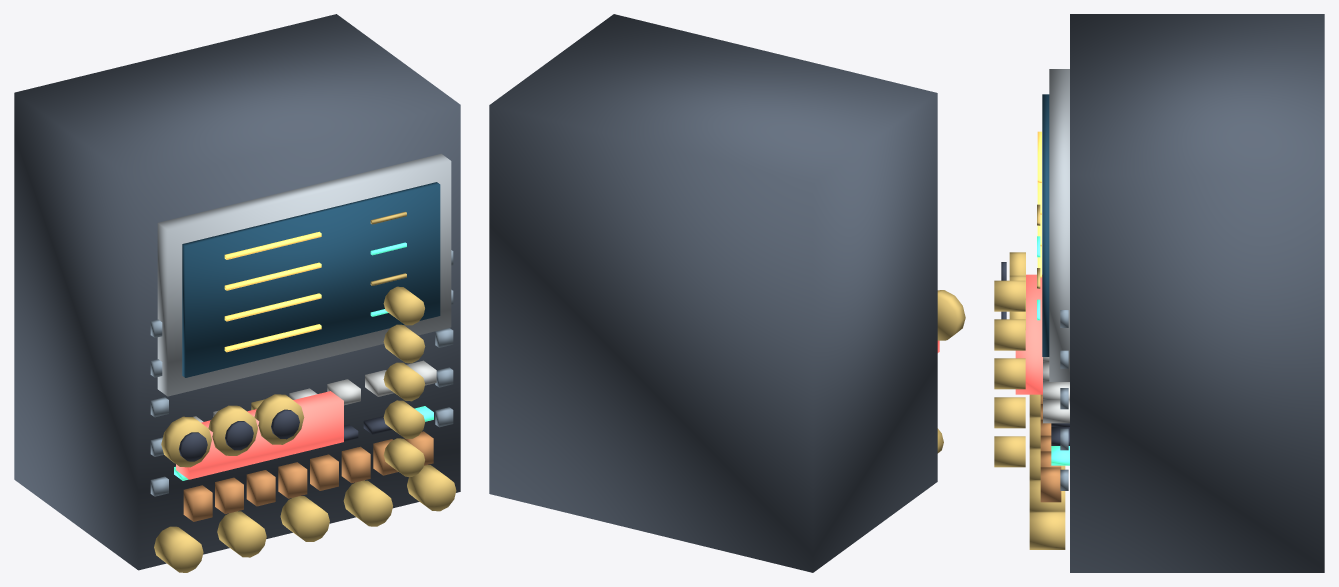
Rendered from 77_L86_W129CriticalFeedbackPatchStation.glb.
3 views of the same model, side by side, from view 1: azimuth 30°, elevation 25°; view 2: azimuth 150°, elevation 25°; view 3: azimuth 270°, elevation 25° (orthographic). The views are drawn at different scales.
Visible parts, largest first — view 1: L86_W129CriticalFeedbackPatch_Part_0000, L86_W129CriticalFeedbackPatch_Part_0002, L86_W129CriticalFeedbackPatch_Part_0001, L86_W129CriticalFeedbackPatch_Part_0004, L86_W129CriticalFeedbackPatch_Part_0009, L86_W129CriticalFeedbackPatch_Part_0010, L86_W129CriticalFeedbackPatch_Part_0003, L86_W129CriticalFeedbackPatch_Part_0008, L86_W129CriticalFeedbackPatch_Part_0006, L86_W129CriticalFeedbackPatch_Part_0011, L86_W129CriticalFeedbackPatch_Part_0013, L86_W129CriticalFeedbackPatch_Part_0015 (+5 smaller); view 2: L86_W129CriticalFeedbackPatch_Part_0000, L86_W129CriticalFeedbackPatch_Part_0011; view 3: L86_W129CriticalFeedbackPatch_Part_0000, L86_W129CriticalFeedbackPatch_Part_0004, L86_W129CriticalFeedbackPatch_Part_0001, L86_W129CriticalFeedbackPatch_Part_0010, L86_W129CriticalFeedbackPatch_Part_0002, L86_W129CriticalFeedbackPatch_Part_0009, L86_W129CriticalFeedbackPatch_Part_0006, L86_W129CriticalFeedbackPatch_Part_0008, L86_W129CriticalFeedbackPatch_Part_0003, L86_W129CriticalFeedbackPatch_Part_0005.
Boxes of the visible parts, x1=… form: L86_W129CriticalFeedbackPatch_Part_0000: x1=14, y1=14, x2=460, y2=570; L86_W129CriticalFeedbackPatch_Part_0002: x1=182, y1=182, x2=440, y2=377; L86_W129CriticalFeedbackPatch_Part_0001: x1=157, y1=153, x2=451, y2=396; L86_W129CriticalFeedbackPatch_Part_0004: x1=154, y1=211, x2=456, y2=572; L86_W129CriticalFeedbackPatch_Part_0009: x1=183, y1=431, x2=433, y2=521; L86_W129CriticalFeedbackPatch_Part_0010: x1=176, y1=391, x2=343, y2=479; L86_W129CriticalFeedbackPatch_Part_0003: x1=224, y1=231, x2=321, y2=352; L86_W129CriticalFeedbackPatch_Part_0008: x1=150, y1=250, x2=453, y2=496; L86_W129CriticalFeedbackPatch_Part_0006: x1=193, y1=360, x2=436, y2=422; L86_W129CriticalFeedbackPatch_Part_0011: x1=161, y1=416, x2=211, y2=467; L86_W129CriticalFeedbackPatch_Part_0013: x1=208, y1=405, x2=257, y2=455; L86_W129CriticalFeedbackPatch_Part_0015: x1=254, y1=394, x2=304, y2=444; L86_W129CriticalFeedbackPatch_Part_0000: x1=489, y1=14, x2=937, y2=572; L86_W129CriticalFeedbackPatch_Part_0011: x1=937, y1=290, x2=965, y2=340; L86_W129CriticalFeedbackPatch_Part_0000: x1=1070, y1=14, x2=1324, y2=572; L86_W129CriticalFeedbackPatch_Part_0004: x1=994, y1=204, x2=1065, y2=549; L86_W129CriticalFeedbackPatch_Part_0001: x1=1049, y1=69, x2=1069, y2=381; L86_W129CriticalFeedbackPatch_Part_0010: x1=1015, y1=274, x2=1042, y2=394; L86_W129CriticalFeedbackPatch_Part_0002: x1=1042, y1=94, x2=1049, y2=356; L86_W129CriticalFeedbackPatch_Part_0009: x1=1040, y1=394, x2=1061, y2=502; L86_W129CriticalFeedbackPatch_Part_0006: x1=1043, y1=357, x2=1069, y2=423; L86_W129CriticalFeedbackPatch_Part_0008: x1=1060, y1=310, x2=1068, y2=490; L86_W129CriticalFeedbackPatch_Part_0003: x1=1037, y1=131, x2=1041, y2=277; L86_W129CriticalFeedbackPatch_Part_0005: x1=1037, y1=236, x2=1069, y2=465.
Size of the model in its own units: 0.9792 by 1.12 by 0.8464.
